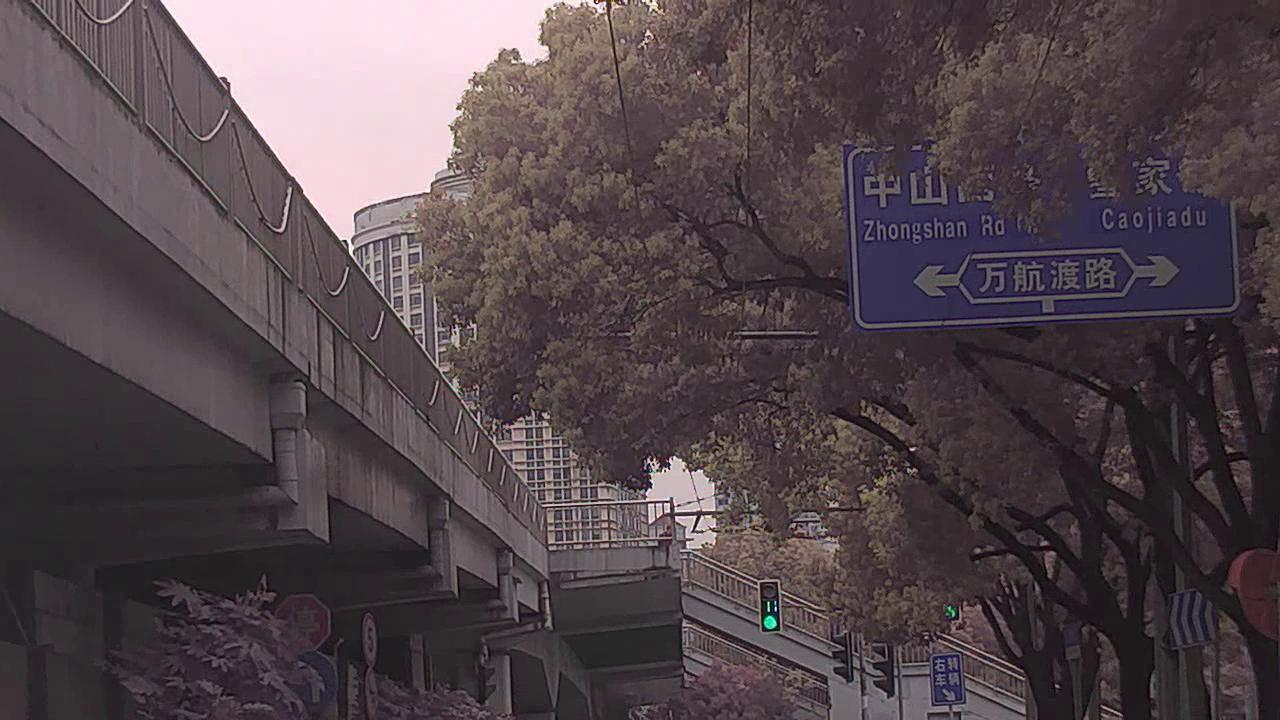traffic_light: (760, 583, 780, 632)
